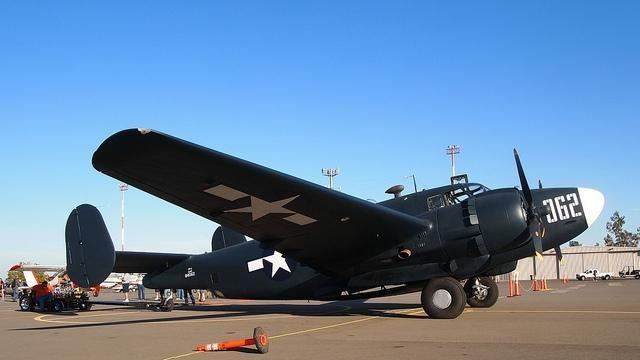truck: (576, 268, 614, 280)
